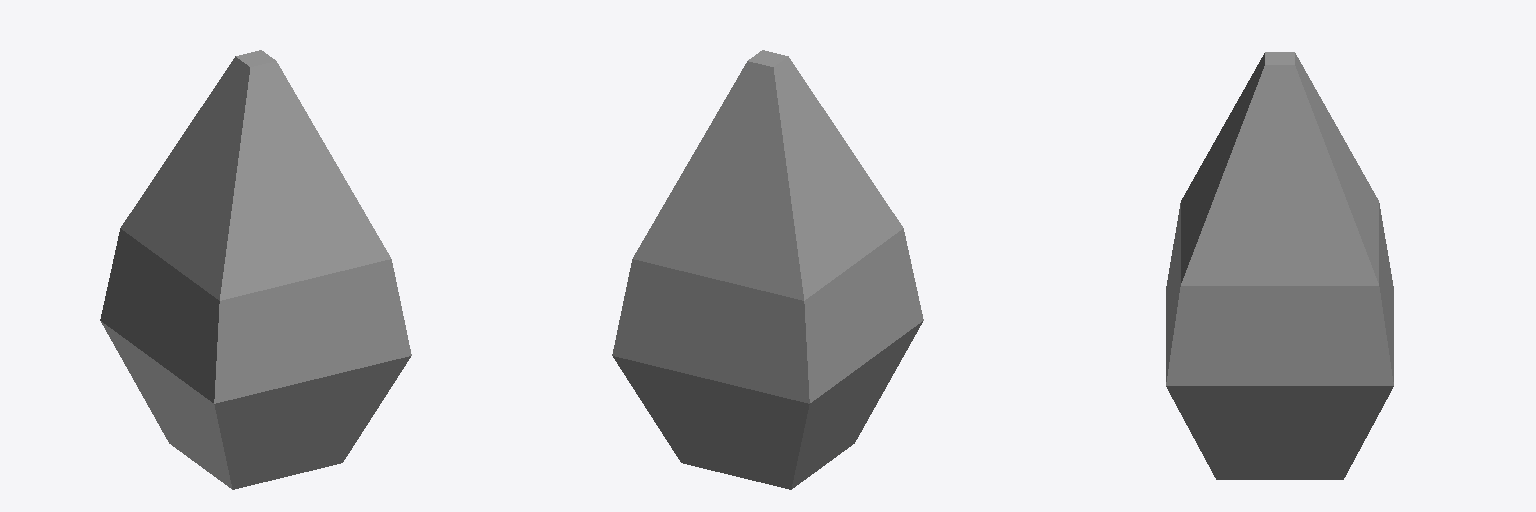
The model's file is fire.obj.
The picture shows the model from 3 angles: view 1: azimuth 30°, elevation 25°; view 2: azimuth 150°, elevation 25°; view 3: azimuth 270°, elevation 25°; orthographic projection.
Parts seen in each view (by area): view 1: Mesh_Cube; view 2: Mesh_Cube; view 3: Mesh_Cube.
Part boxes in pixels (bbox=[...]): Mesh_Cube: bbox=[100, 50, 411, 489]; Mesh_Cube: bbox=[612, 50, 923, 489]; Mesh_Cube: bbox=[1166, 52, 1393, 479].
Bounding box in the file's own units: 0.5541 × 1.06 × 0.5541.